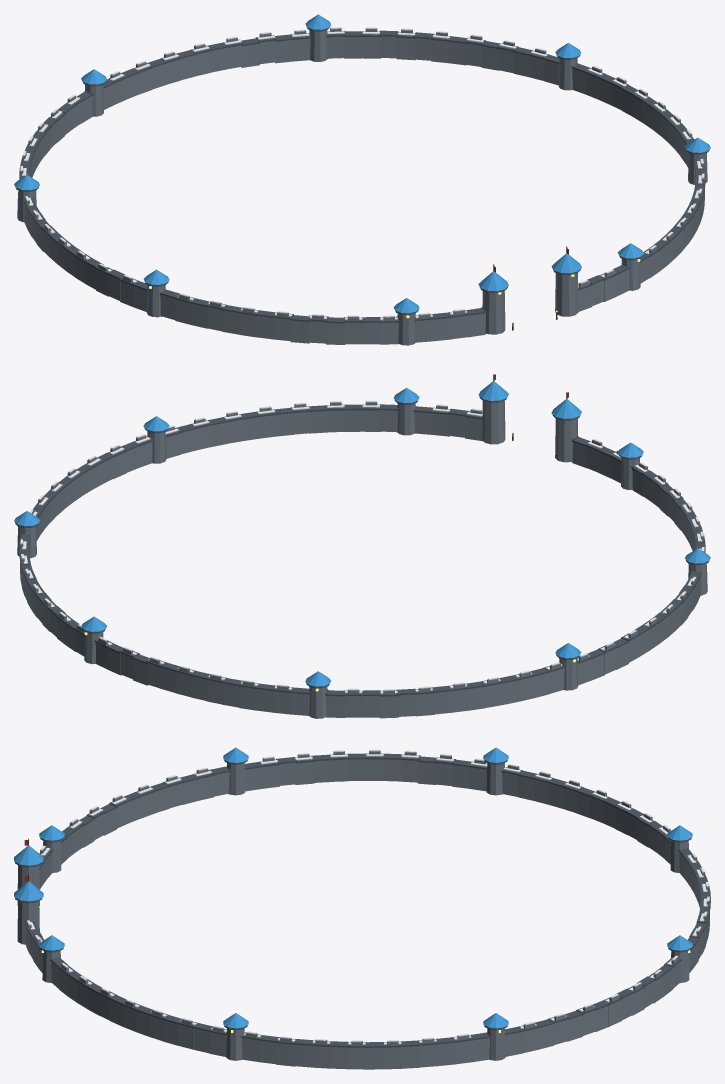
File: city_wall_t3.glb
3 views of the same model, one above another, from view 1: azimuth 30°, elevation 25°; view 2: azimuth 150°, elevation 25°; view 3: azimuth 270°, elevation 25° (orthographic).
Visible parts, largest first — view 1: city_wall_t3; view 2: city_wall_t3; view 3: city_wall_t3.
Part boxes in pixels (<box>): city_wall_t3: <box>14,14,710,345</box>; city_wall_t3: <box>14,374,710,718</box>; city_wall_t3: <box>14,747,710,1069</box>.
Size of the model in its own units: 93.39 by 10.19 by 94.33.
